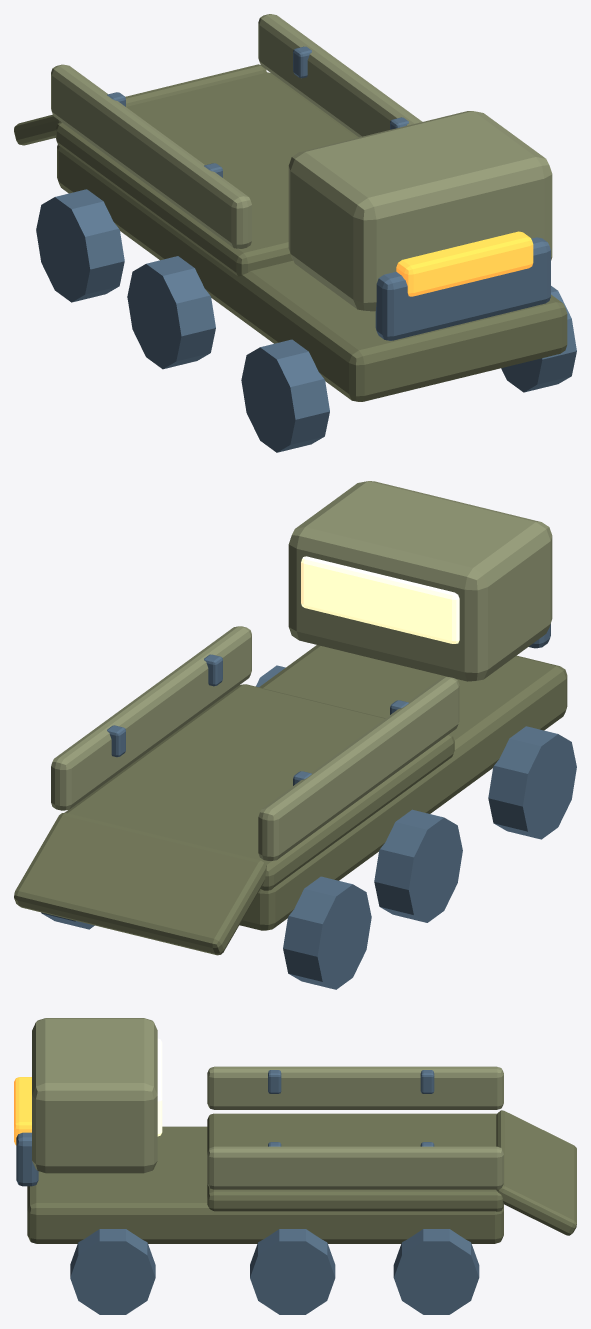
File: com_carrier.glb
3 renders of one model, top to bottom at view 1: azimuth 30°, elevation 25°; view 2: azimuth 150°, elevation 25°; view 3: azimuth 270°, elevation 25°, orthographic. The views are drawn at different scales.
Visible parts, largest first — view 1: com_carrier; view 2: com_carrier; view 3: com_carrier.
Part boxes in pixels (x1,y1,x2,y2): com_carrier: [14, 14, 576, 452]; com_carrier: [14, 481, 576, 989]; com_carrier: [14, 1018, 576, 1314].
Size of the model in its own units: 0.57 by 0.5154 by 1.25.
